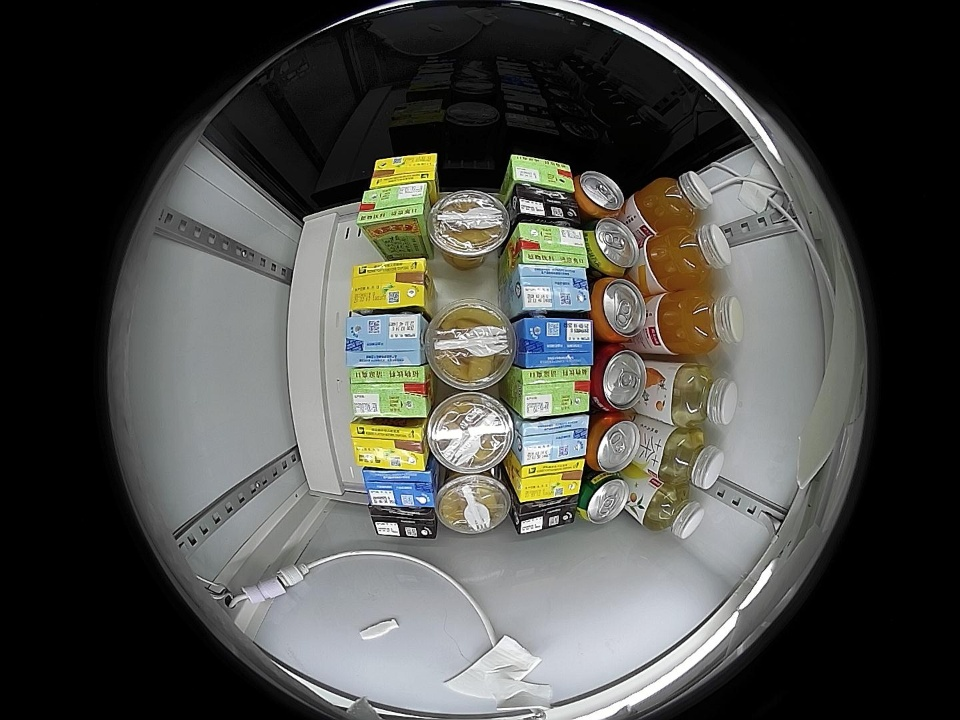chapai2: (668, 362, 739, 428), (658, 427, 725, 489), (641, 482, 705, 540)
fenda: (591, 278, 646, 342), (586, 413, 641, 474), (574, 170, 626, 218)
kele: (591, 346, 647, 412)
wanglaoji: (350, 366, 432, 419), (512, 366, 592, 418), (357, 183, 432, 238), (509, 222, 588, 267), (503, 155, 576, 197)
weic: (656, 290, 745, 356), (647, 224, 732, 291), (638, 170, 714, 232)
weitanai: (513, 317, 594, 368), (362, 467, 436, 510)
weitanai2: (509, 185, 578, 226), (511, 496, 578, 536), (369, 505, 437, 539)
weitanaiditang: (345, 313, 429, 367), (508, 263, 591, 316), (513, 414, 589, 466)
weitaningmeng: (349, 258, 433, 313), (350, 419, 429, 469), (510, 459, 584, 502), (368, 154, 439, 190)
xianguolao: (426, 301, 516, 391), (426, 392, 516, 473), (428, 189, 510, 266), (435, 471, 512, 535)
xuebi2: (585, 218, 640, 276), (576, 471, 630, 525)
